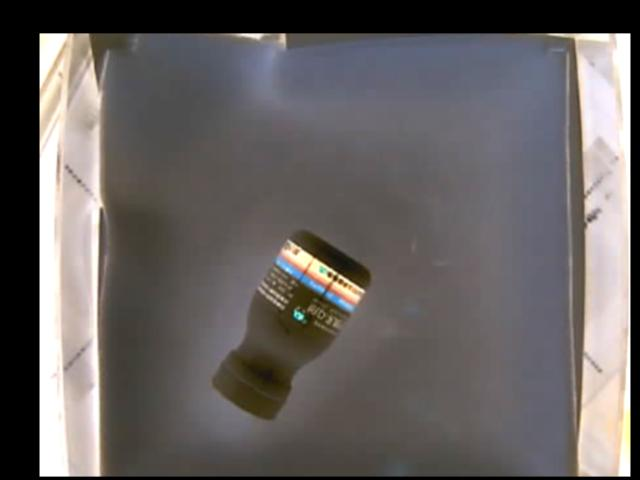Bottle: (216, 229, 372, 425)
